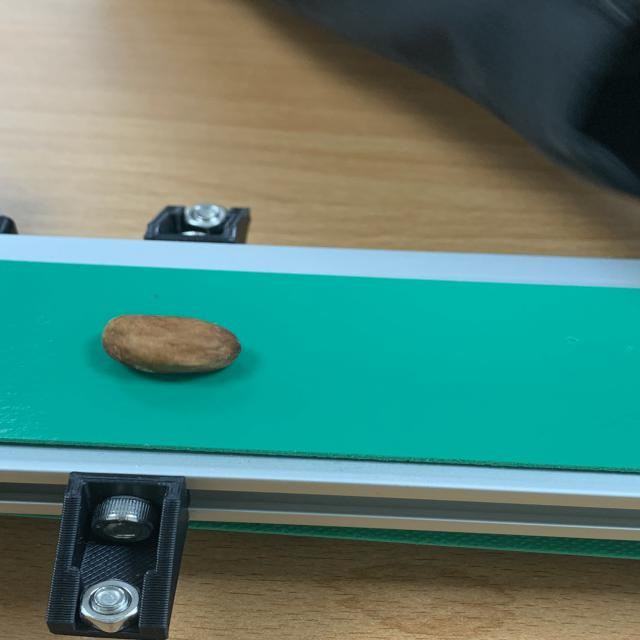Fine_cocoabeans: (0, 274, 339, 406)
